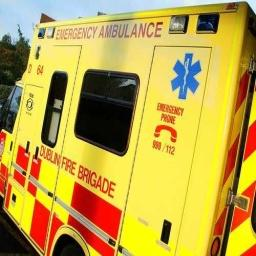Ambulance: (0, 2, 255, 255)
